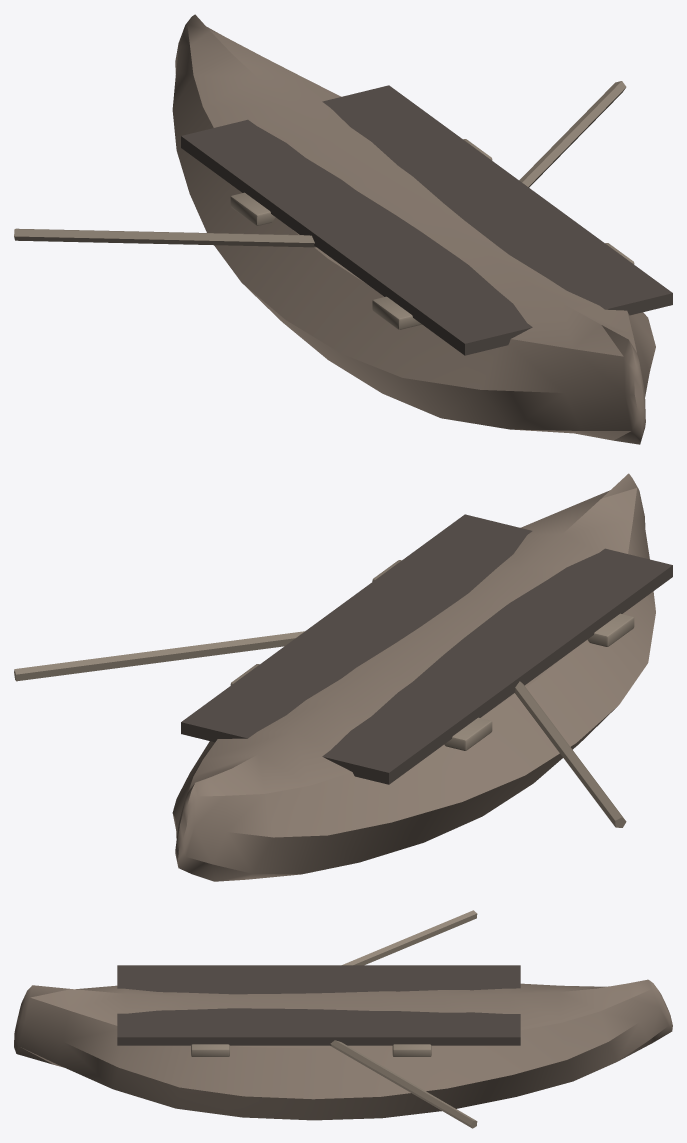
The model's file is boat.gltf.
3 views of the same model, one above another, from view 1: azimuth 30°, elevation 25°; view 2: azimuth 150°, elevation 25°; view 3: azimuth 270°, elevation 25° (orthographic). The views are drawn at different scales.
Visible parts, largest first — view 1: Body; view 2: Body; view 3: Body.
Boxes of the visible parts, x1,y1,x2,y2 form: Body: [14, 14, 672, 444]; Body: [14, 473, 672, 881]; Body: [14, 910, 672, 1128].
Bounding box in the file's own units: 3.24 × 0.8546 × 4.25.
